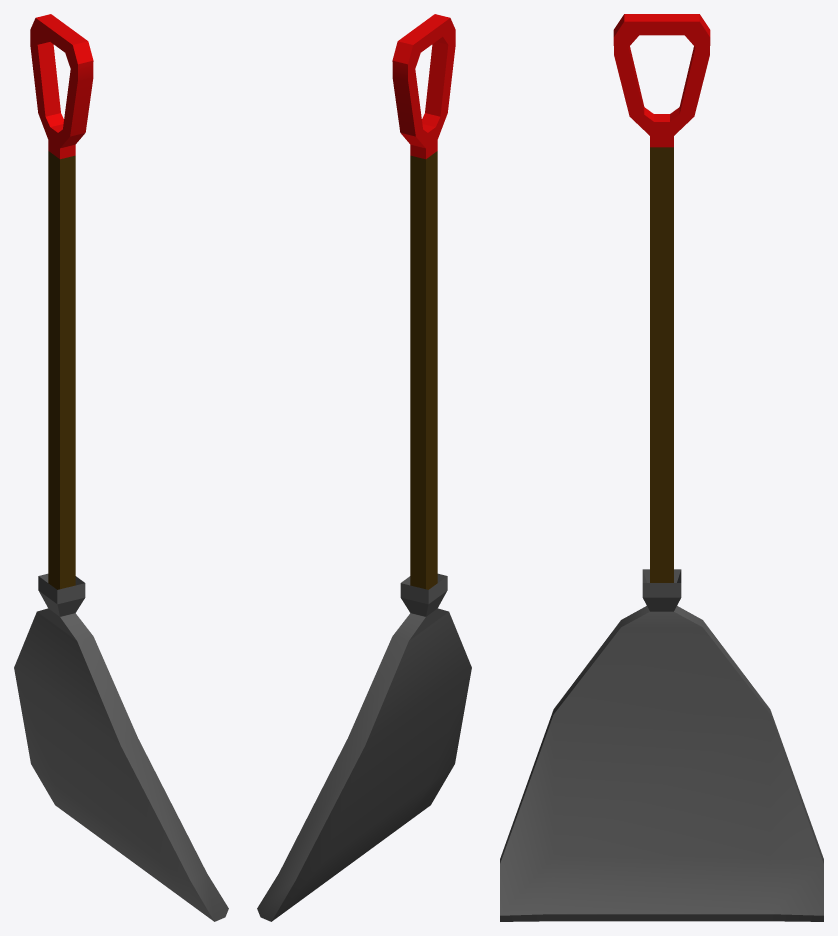
Rendered from Spade.fbx.
3 views of the same model, side by side, from view 1: azimuth 30°, elevation 25°; view 2: azimuth 150°, elevation 25°; view 3: azimuth 270°, elevation 25° (orthographic).
Parts seen in each view (by area): view 1: pCube1; view 2: pCube1; view 3: pCube1.
Boxes of the visible parts, x1,y1,x2,y2 form: pCube1: (14,14,228,921); pCube1: (257,14,471,921); pCube1: (500,14,823,921).
Size of the model in its own units: 16.02 by 129 by 43.67.
